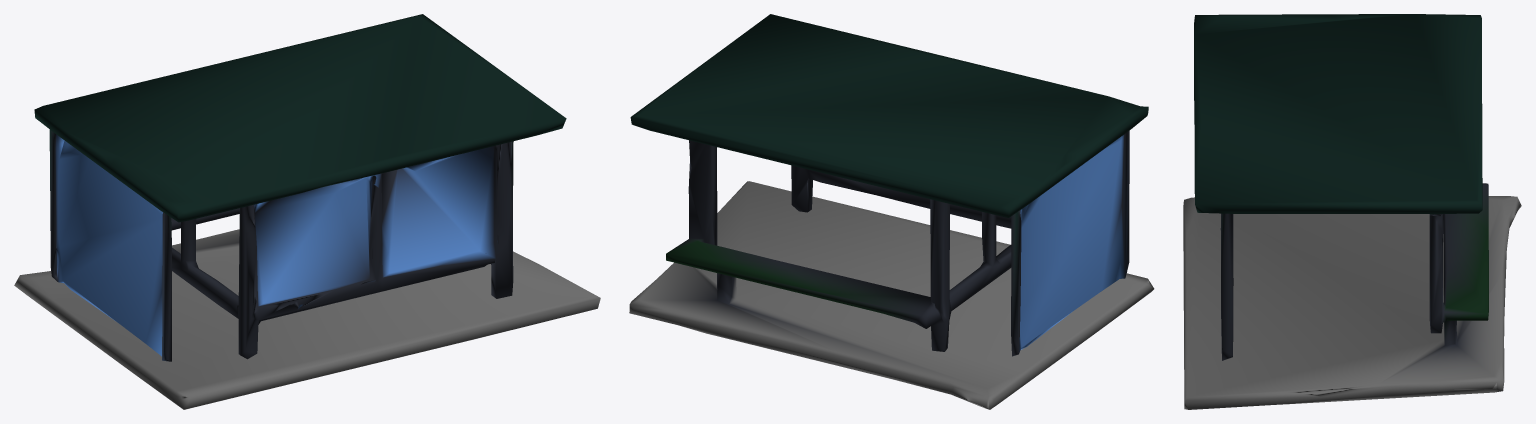
The model's file is gen3d-bus-stop-lod1.glb.
The picture shows the model from 3 angles, left to right: view 1: azimuth 30°, elevation 25°; view 2: azimuth 150°, elevation 25°; view 3: azimuth 270°, elevation 25°; orthographic projection. The views are drawn at different scales.
Visible parts, largest first — view 1: part_0; view 2: part_0; view 3: part_0.
Part boxes in pixels (box(x1,y1,x2,y2)): part_0: box(14, 14, 600, 409); part_0: box(629, 14, 1154, 409); part_0: box(1183, 14, 1521, 409).
Bounding box in the file's own units: 2.23 × 0.9947 × 1.56.
